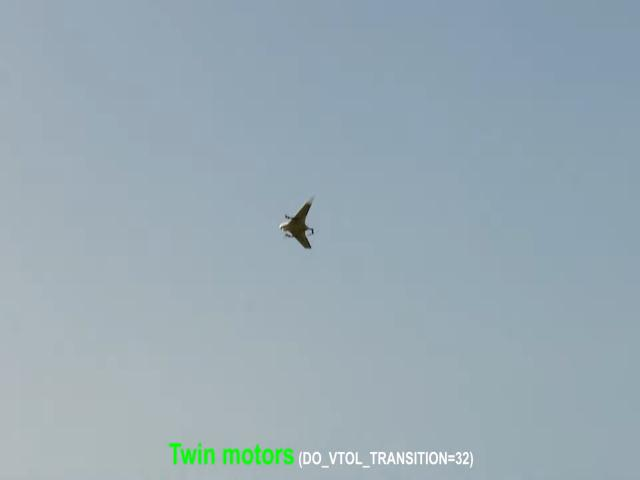plane: (278, 195, 318, 249)
